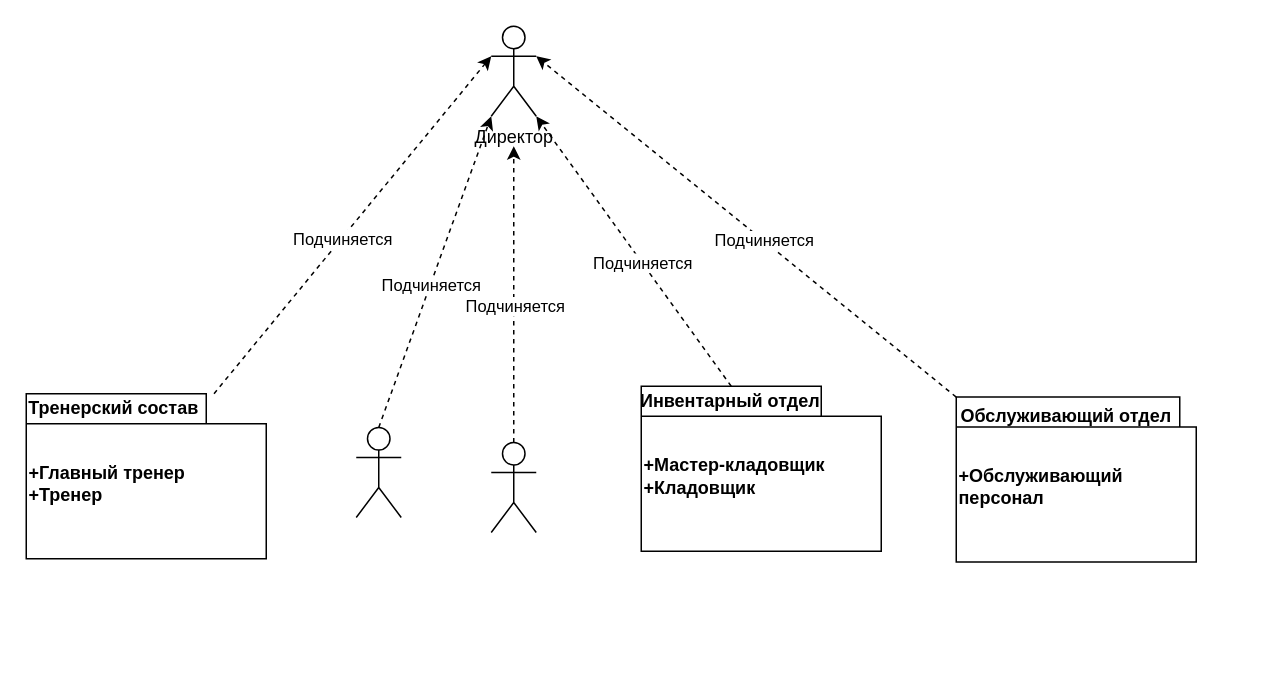
The diagram is 1268 pixels wide and 698 high, and some of its shapes have lost their labels. The centre of each missing label's shape, as x and y in pixels:
"Администратор" goes at (378,472).
"Бухгалтер" goes at (513,486).
